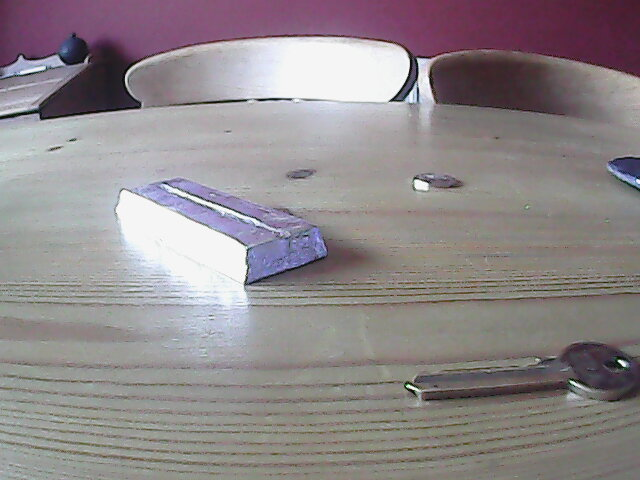Coin: (409, 171, 464, 192)
Foil: (114, 175, 331, 292)
Key: (402, 339, 640, 409)
